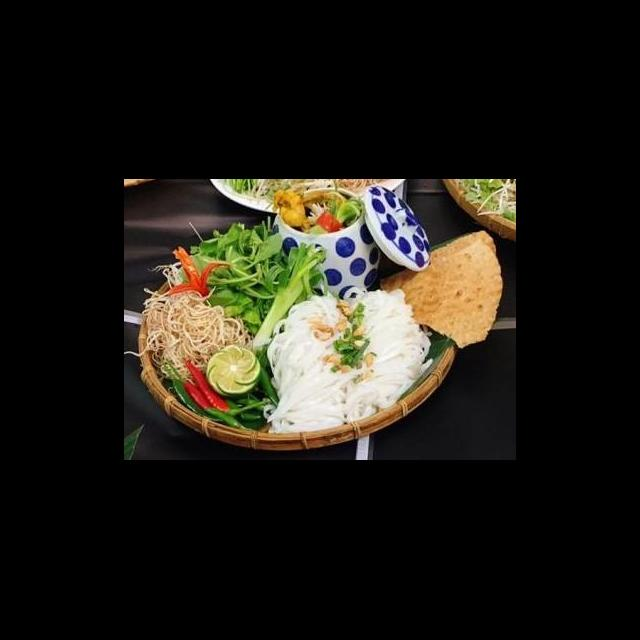banh da: (374, 228, 505, 352)
mi: (261, 286, 436, 438)
